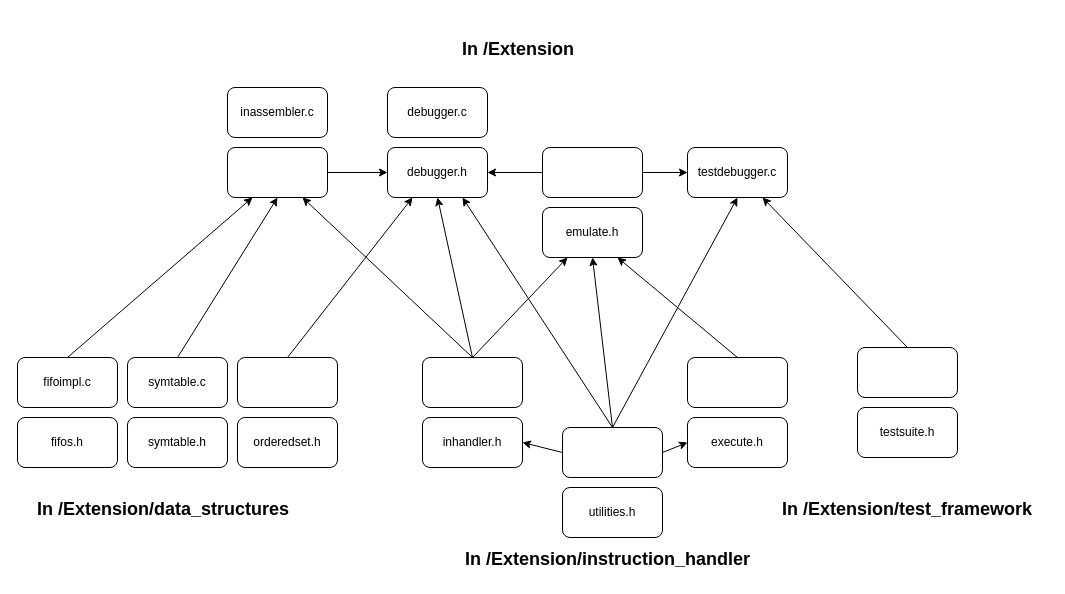
Some shapes in this 1065 by 594 pixel diagram are drawn without their labels. Each missing label, with the box of its shape:
emulate.c: (542, 146, 642, 198)
execute.c: (686, 356, 788, 408)
inassembler.h: (226, 146, 328, 198)
inhandler.c: (422, 356, 522, 408)
orderedset.c: (236, 356, 338, 408)
testsuite.c: (856, 346, 958, 398)
utilities.c: (562, 426, 662, 478)
